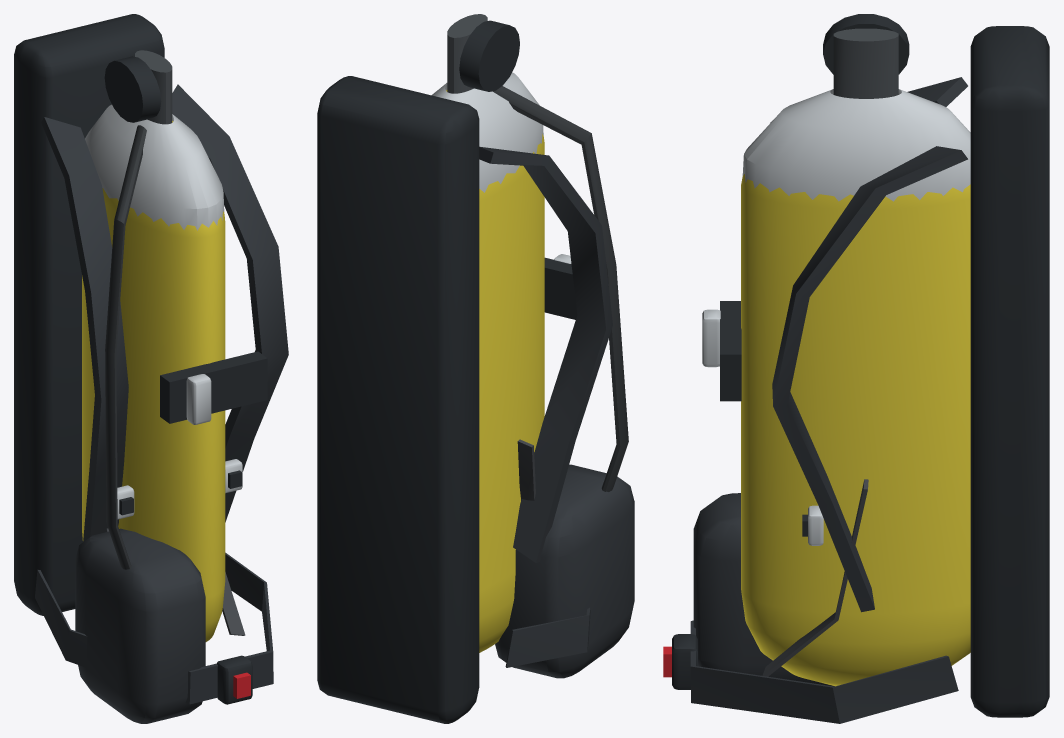
The model's file is ob_scba_g3_1.glb.
The picture shows the model from 3 angles, left to right: view 1: azimuth 30°, elevation 25°; view 2: azimuth 150°, elevation 25°; view 3: azimuth 270°, elevation 25°; orthographic projection. The views are drawn at different scales.
Visible parts, largest first — view 1: ob_scba_g3_1; view 2: ob_scba_g3_1; view 3: ob_scba_g3_1.
Boxes of the visible parts, bbox=[...] form: ob_scba_g3_1: bbox=[14, 14, 288, 723]; ob_scba_g3_1: bbox=[317, 14, 634, 723]; ob_scba_g3_1: bbox=[663, 14, 1049, 723].
Bounding box in the file's own units: 0.32 × 0.93 × 0.48.
